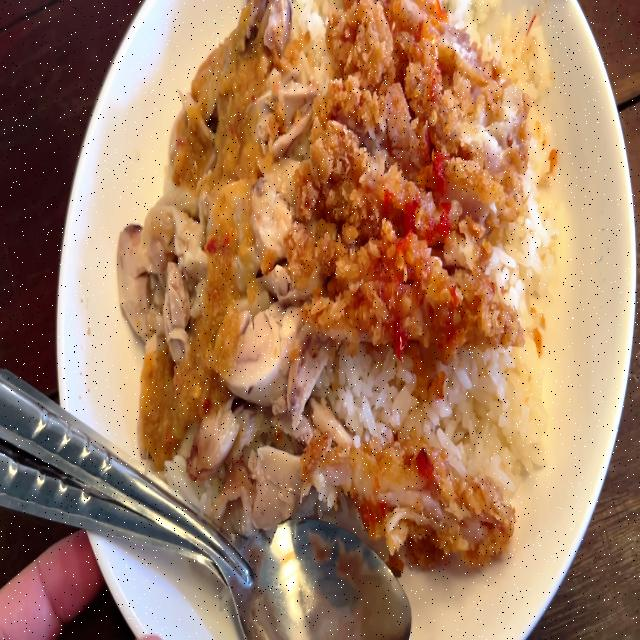boiled_chicken: (125, 0, 306, 453)
chicken_rice: (117, 0, 554, 585)
fried_chicken: (317, 0, 534, 360), (305, 412, 520, 573)
